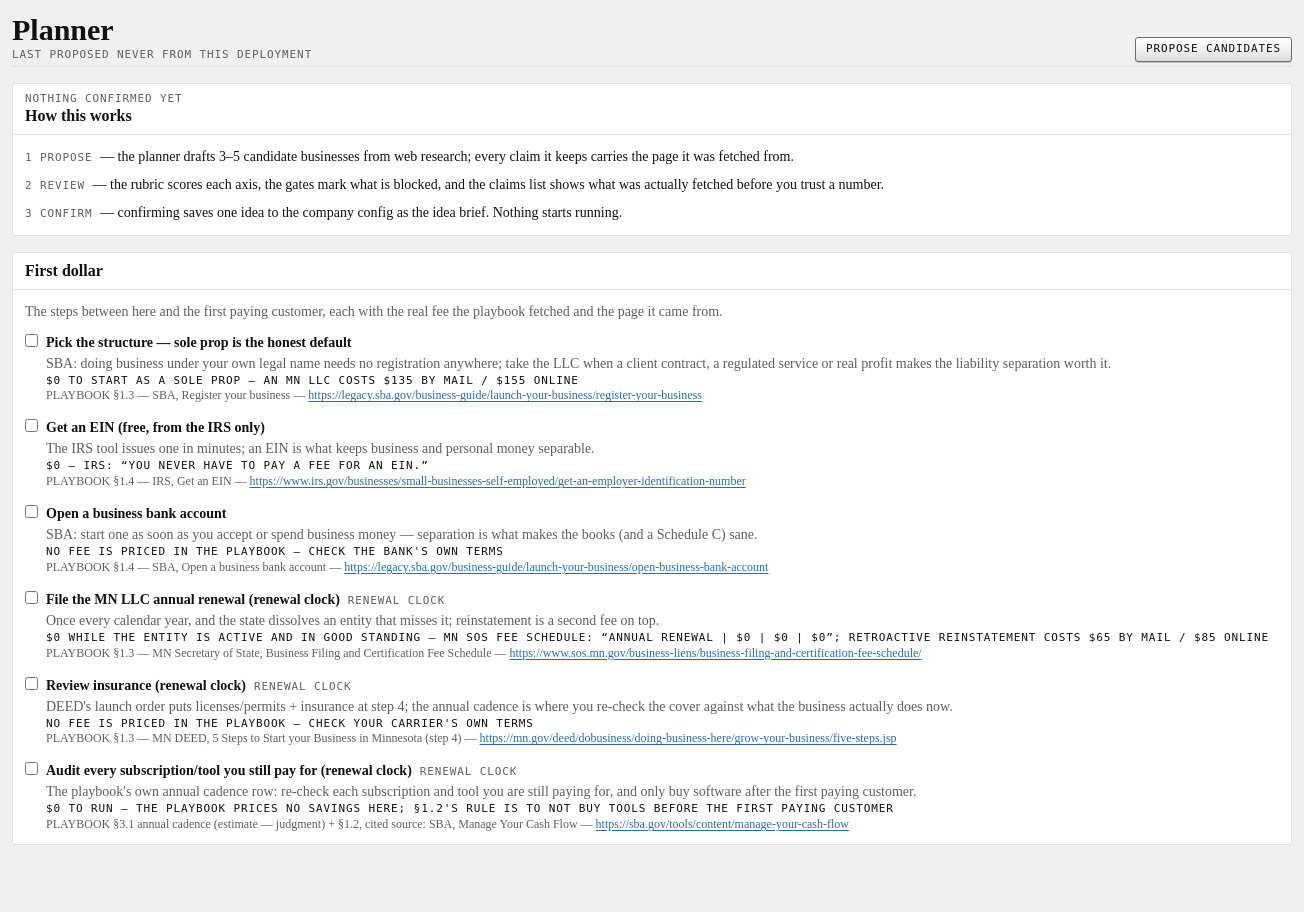
Test: PlannerPage — propose › names a failed propose instead of drawing an empty candidate list
Click the button with test id "planner-propose": click(1214, 49) top-left (1135, 37), bottom-right (1292, 62)
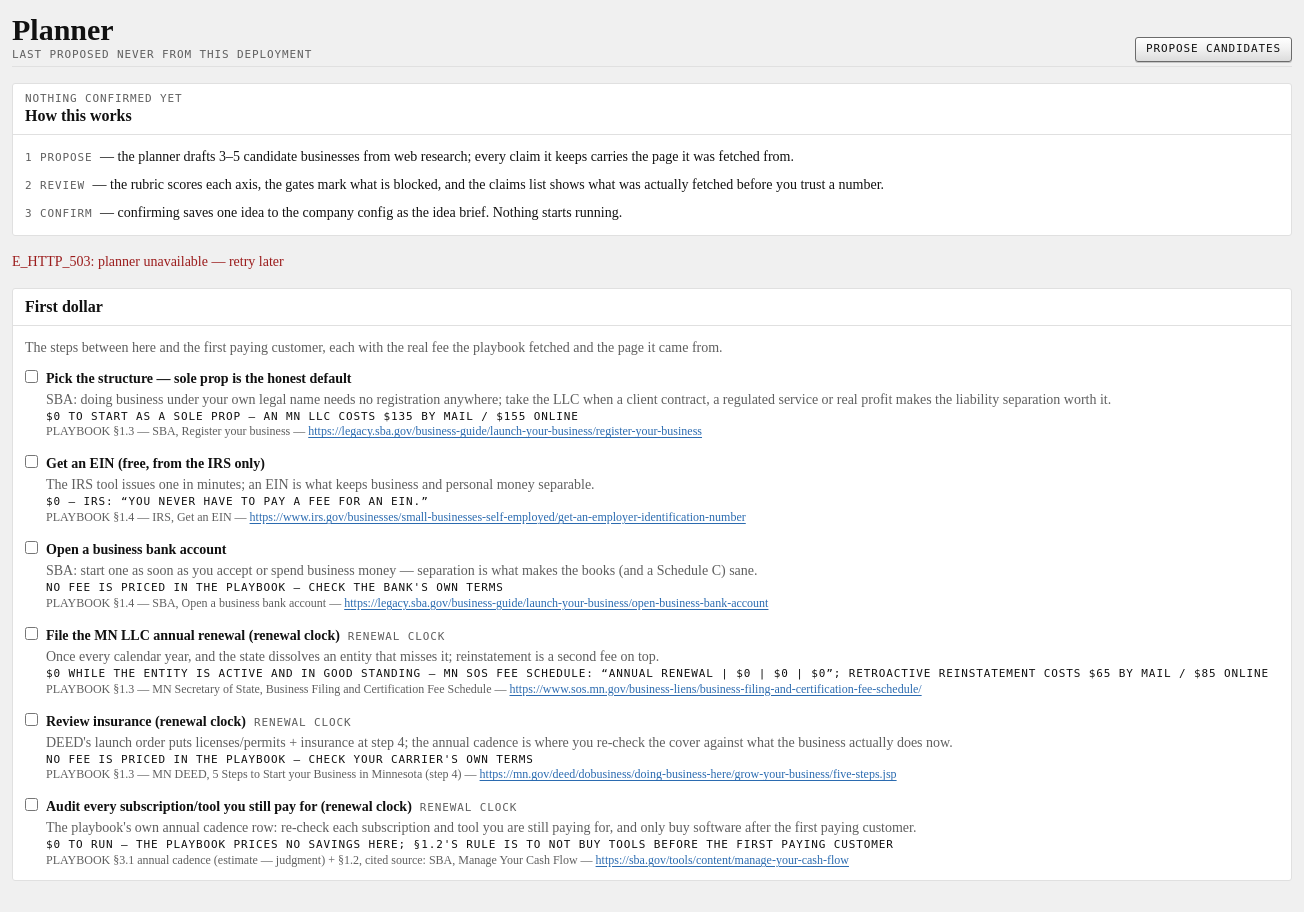
Result: the message with test id "planner-propose-error" reads "E_HTTP_503: planner unavailable — retry later" at top-left (12, 254), bottom-right (284, 268)
